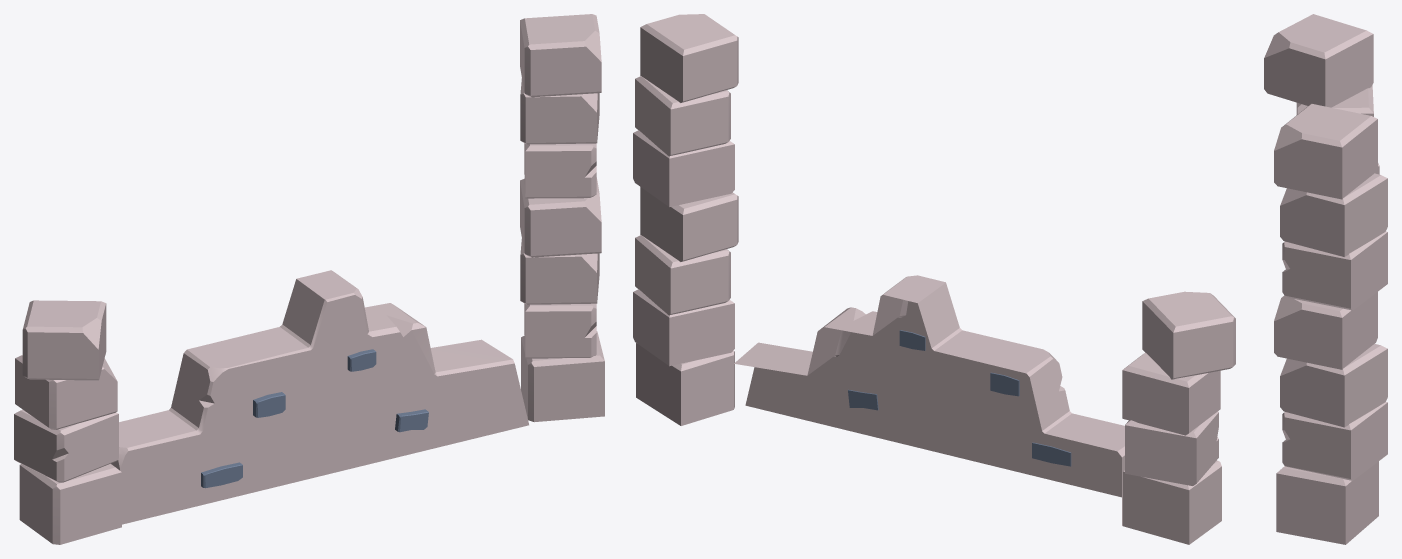
File: fence_01.FBX
The picture shows the model from 3 angles, left to right: view 1: azimuth 30°, elevation 25°; view 2: azimuth 150°, elevation 25°; view 3: azimuth 270°, elevation 25°; orthographic projection. The views are drawn at different scales.
Parts seen in each view (by area): view 1: Box001; view 2: Box001; view 3: Box001.
Part boxes in pixels (left/top/right/bottom): Box001: left=14, top=14, right=604, bottom=544; Box001: left=633, top=14, right=1235, bottom=544; Box001: left=1264, top=14, right=1387, bottom=544.
Bounding box in the file's own units: 115 × 70.48 × 19.63.
